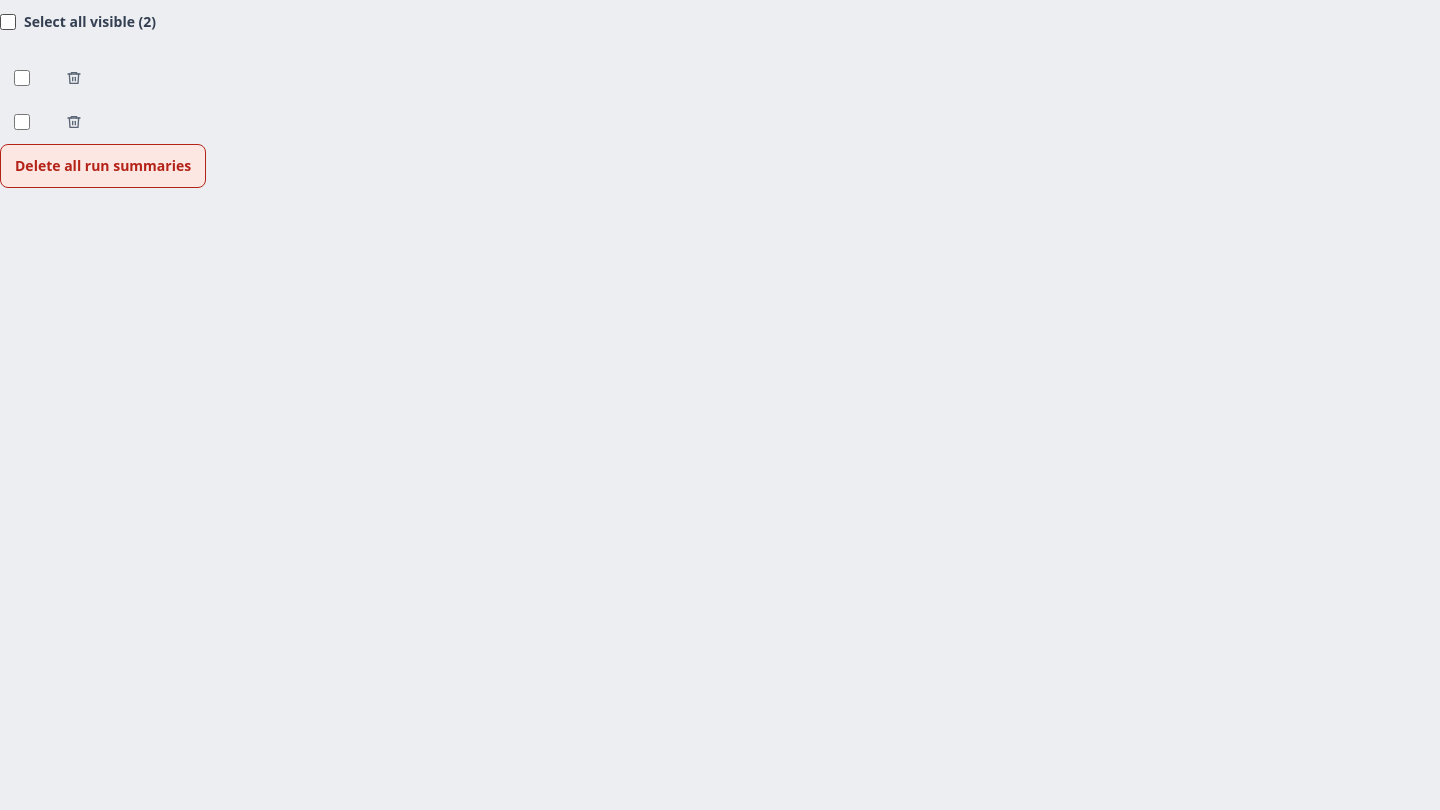
Test: RunHistoryAdminControls › clears selection, typed token, errors, and the privileged dialog on 401
Click the checkbox named "Select run 55555555-5555-4555-8555-555555555555" at [22, 78], box 14,70 -> 30,86
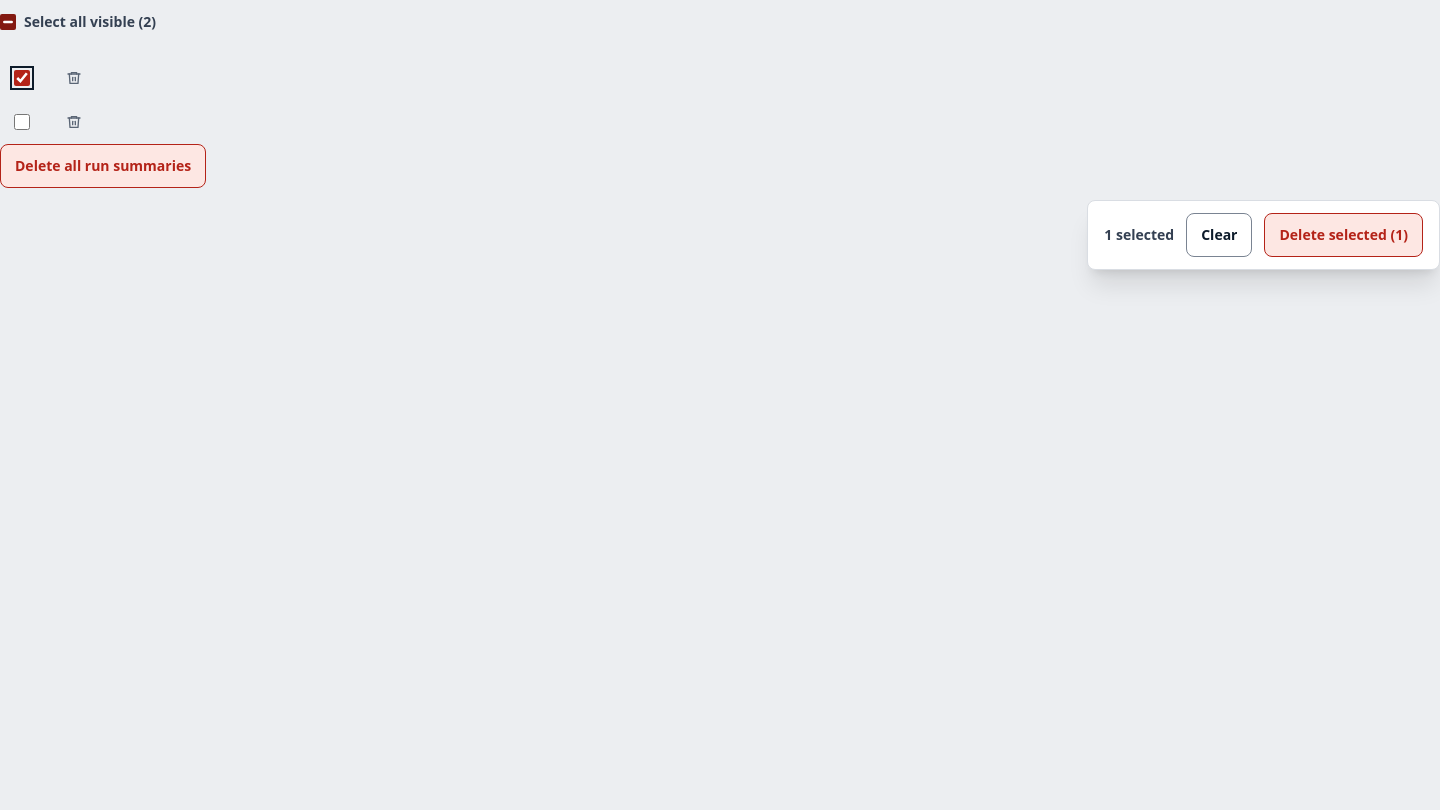
Click the button "Delete all run summaries" at [103, 166], box 0,144 -> 206,188
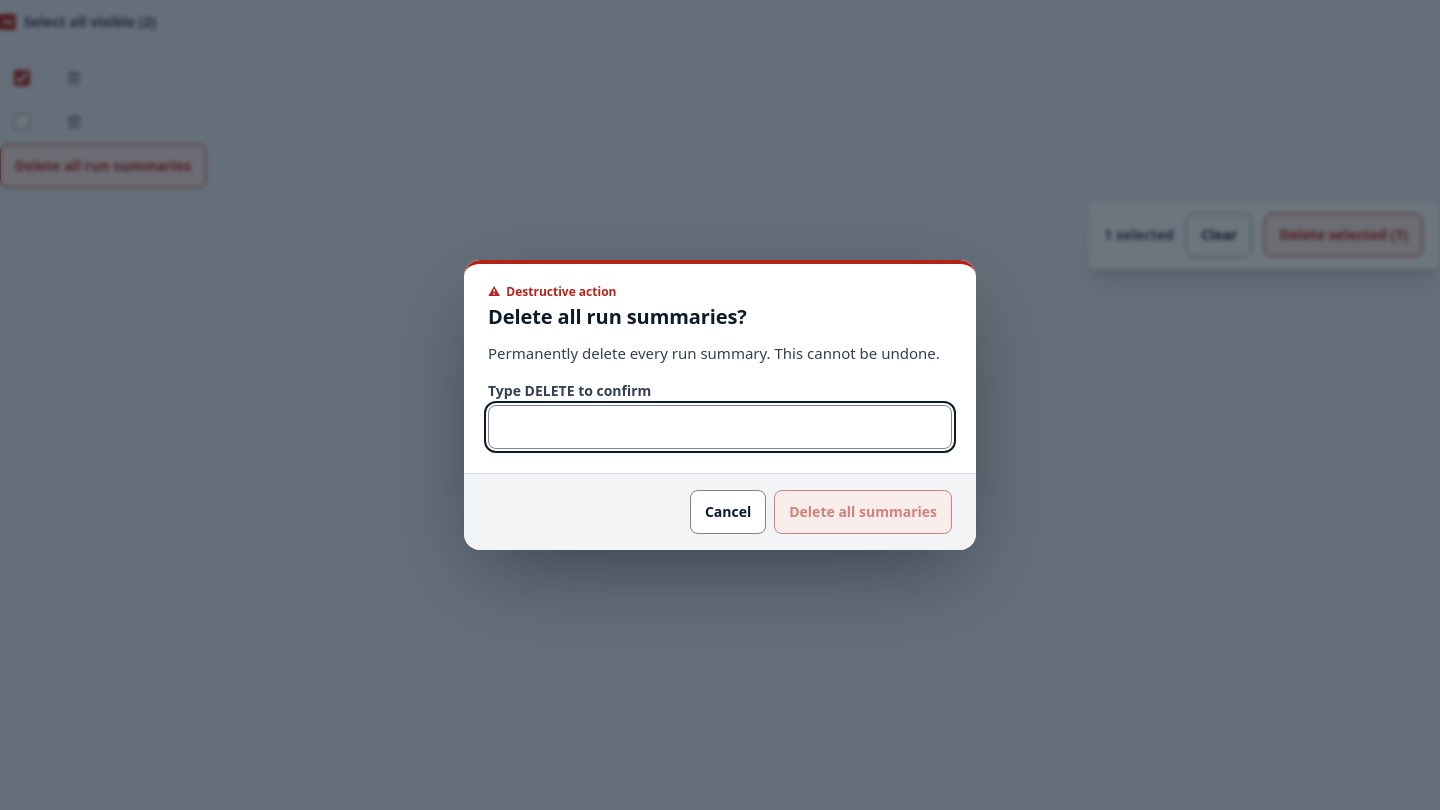
Type "DELETE" into the field at [720, 427], box 488,405 -> 952,449
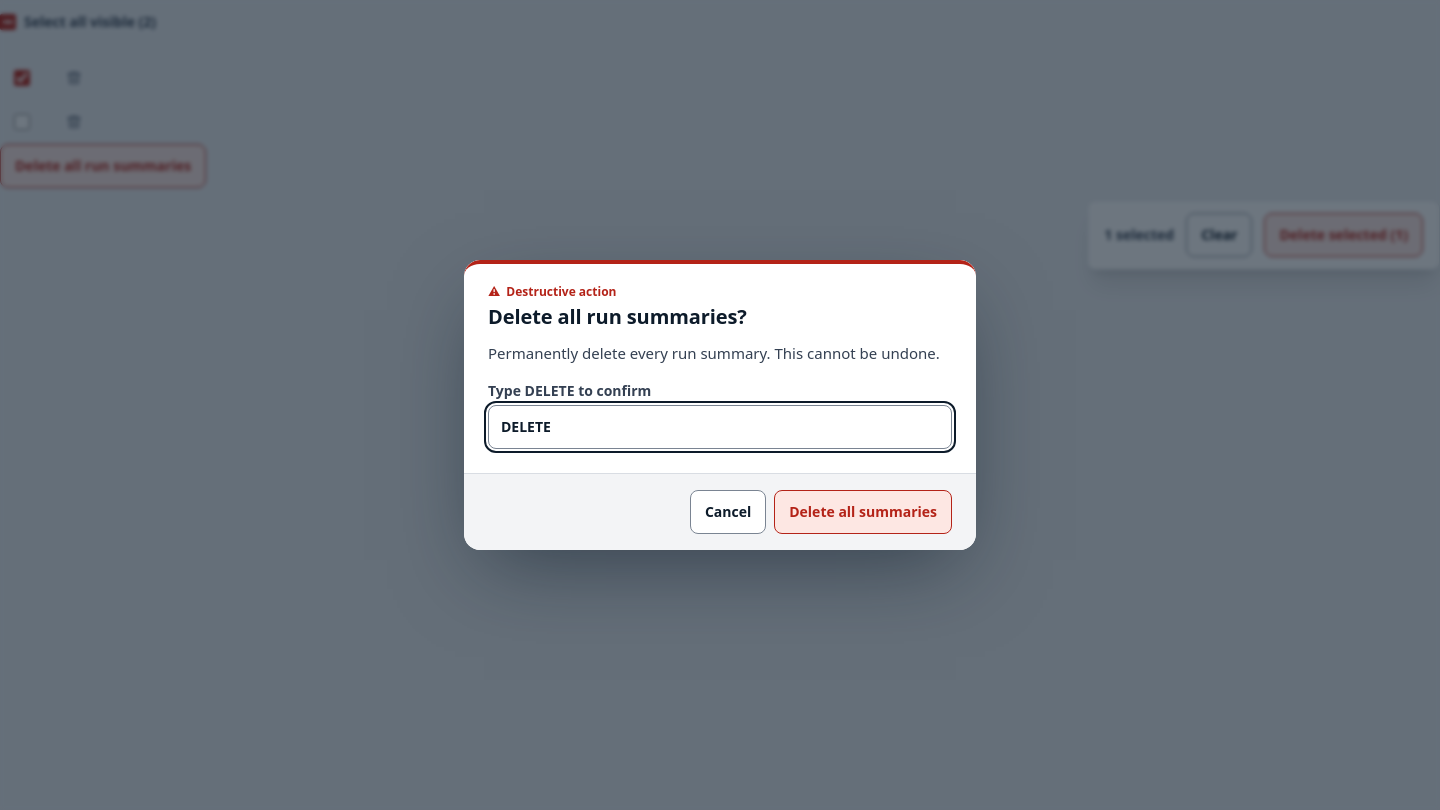
Click the button "Delete all summaries" at [863, 512], box 774,490 -> 952,534
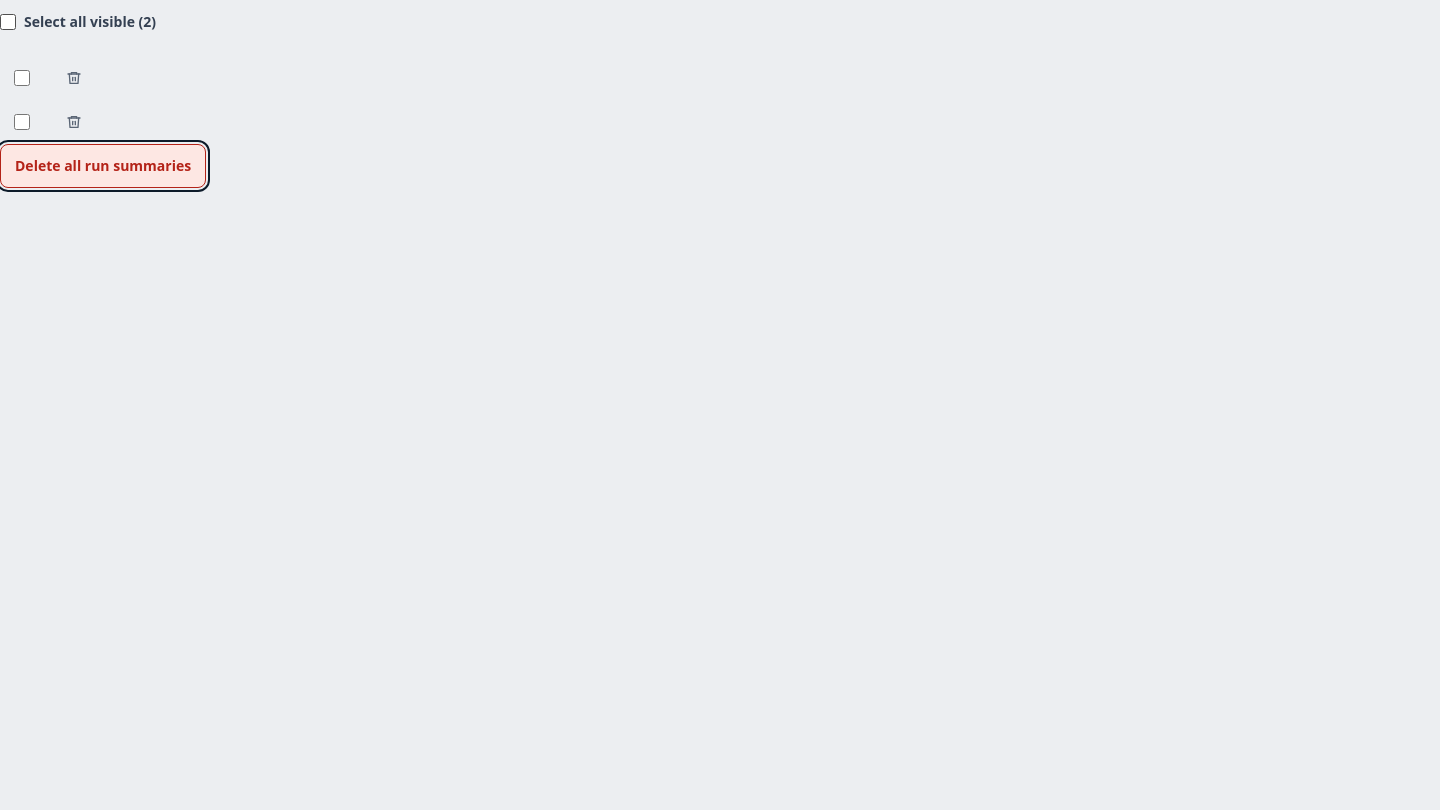
Expected: the dialog is gone
Expected: the button "Delete selected" is gone
Click the button "Delete all run summaries" at [103, 166], box 0,144 -> 206,188
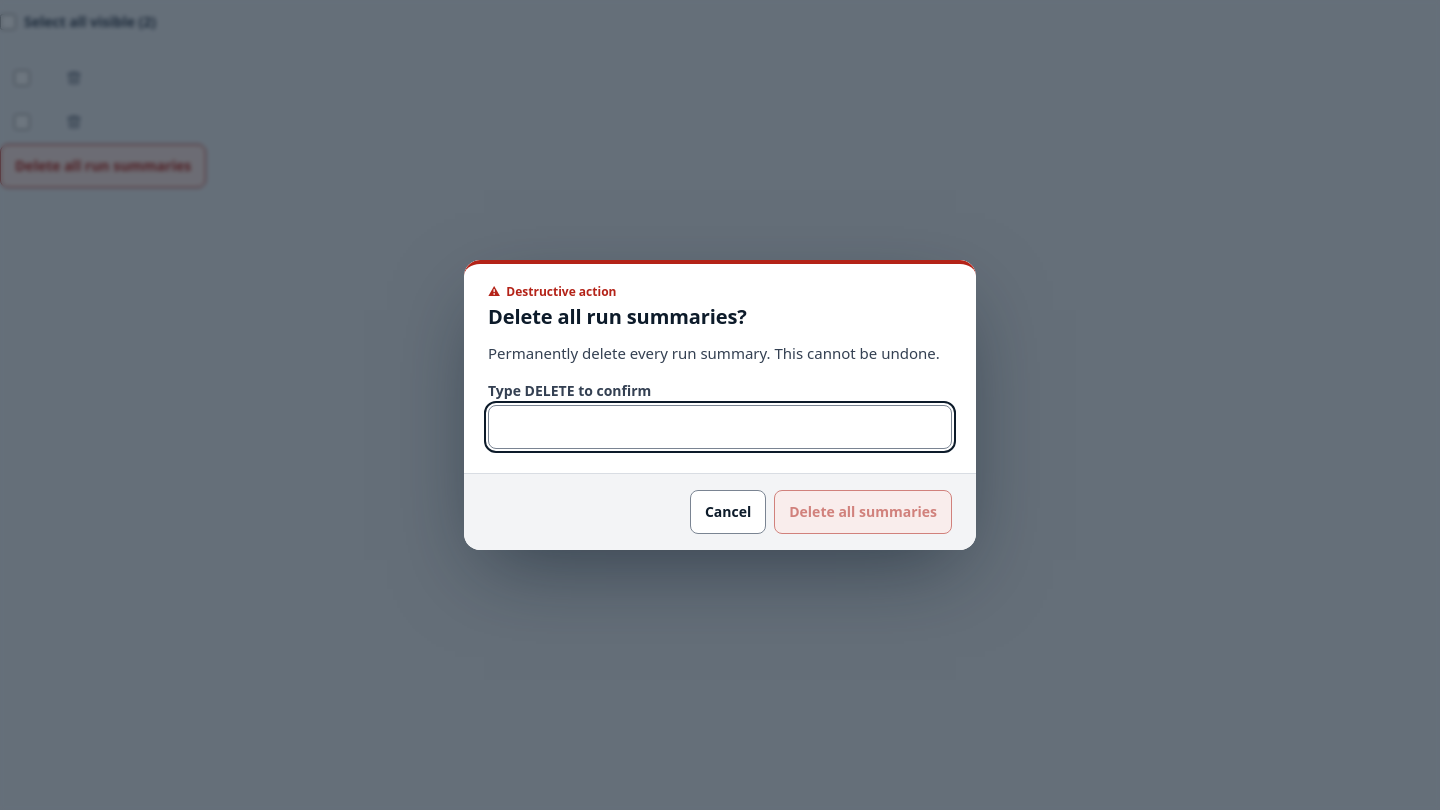
Expected: the field is empty, 488,405 -> 952,449
Expected: the button "Delete all summaries" is disabled, 774,490 -> 952,534
